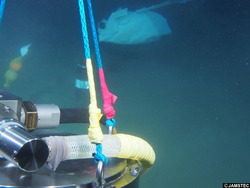plastic bag: (92, 1, 194, 49)
